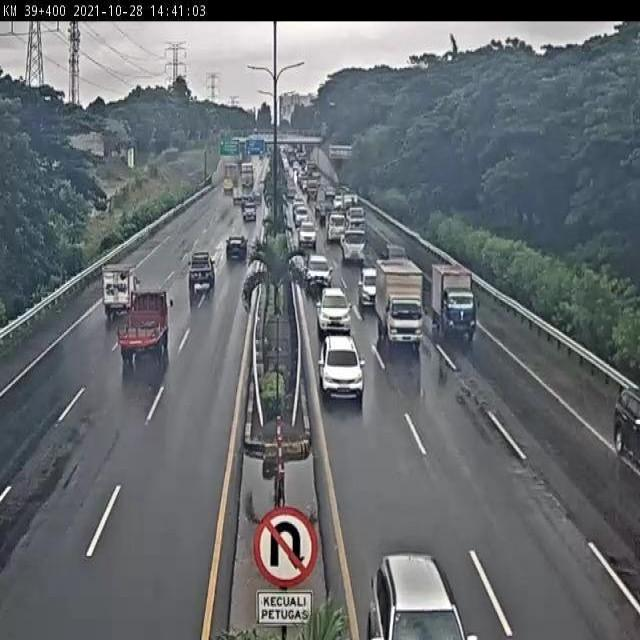car: (319, 336, 364, 403), (317, 287, 352, 332), (187, 251, 218, 292), (305, 253, 333, 290), (359, 267, 377, 308), (225, 233, 249, 260)
mid truck: (117, 289, 171, 364)
small truck: (101, 267, 138, 320)
truck-m-: (374, 257, 424, 352)
truck-s-: (431, 260, 477, 343)
